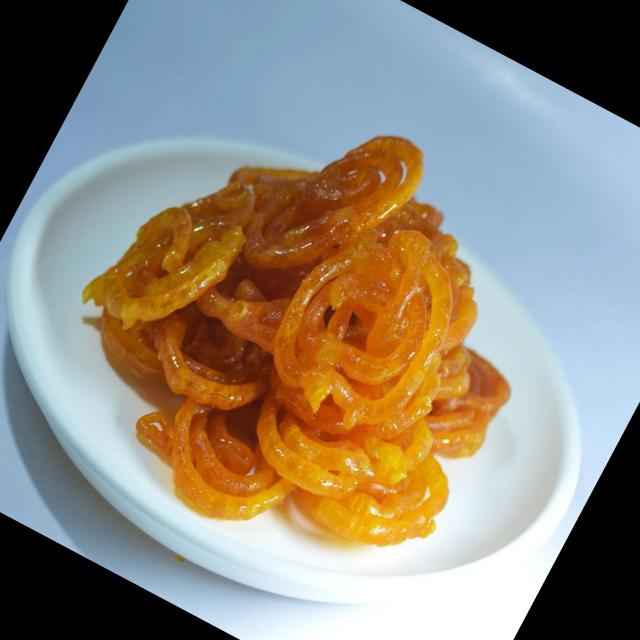jalebi: (24, 37, 593, 592)
